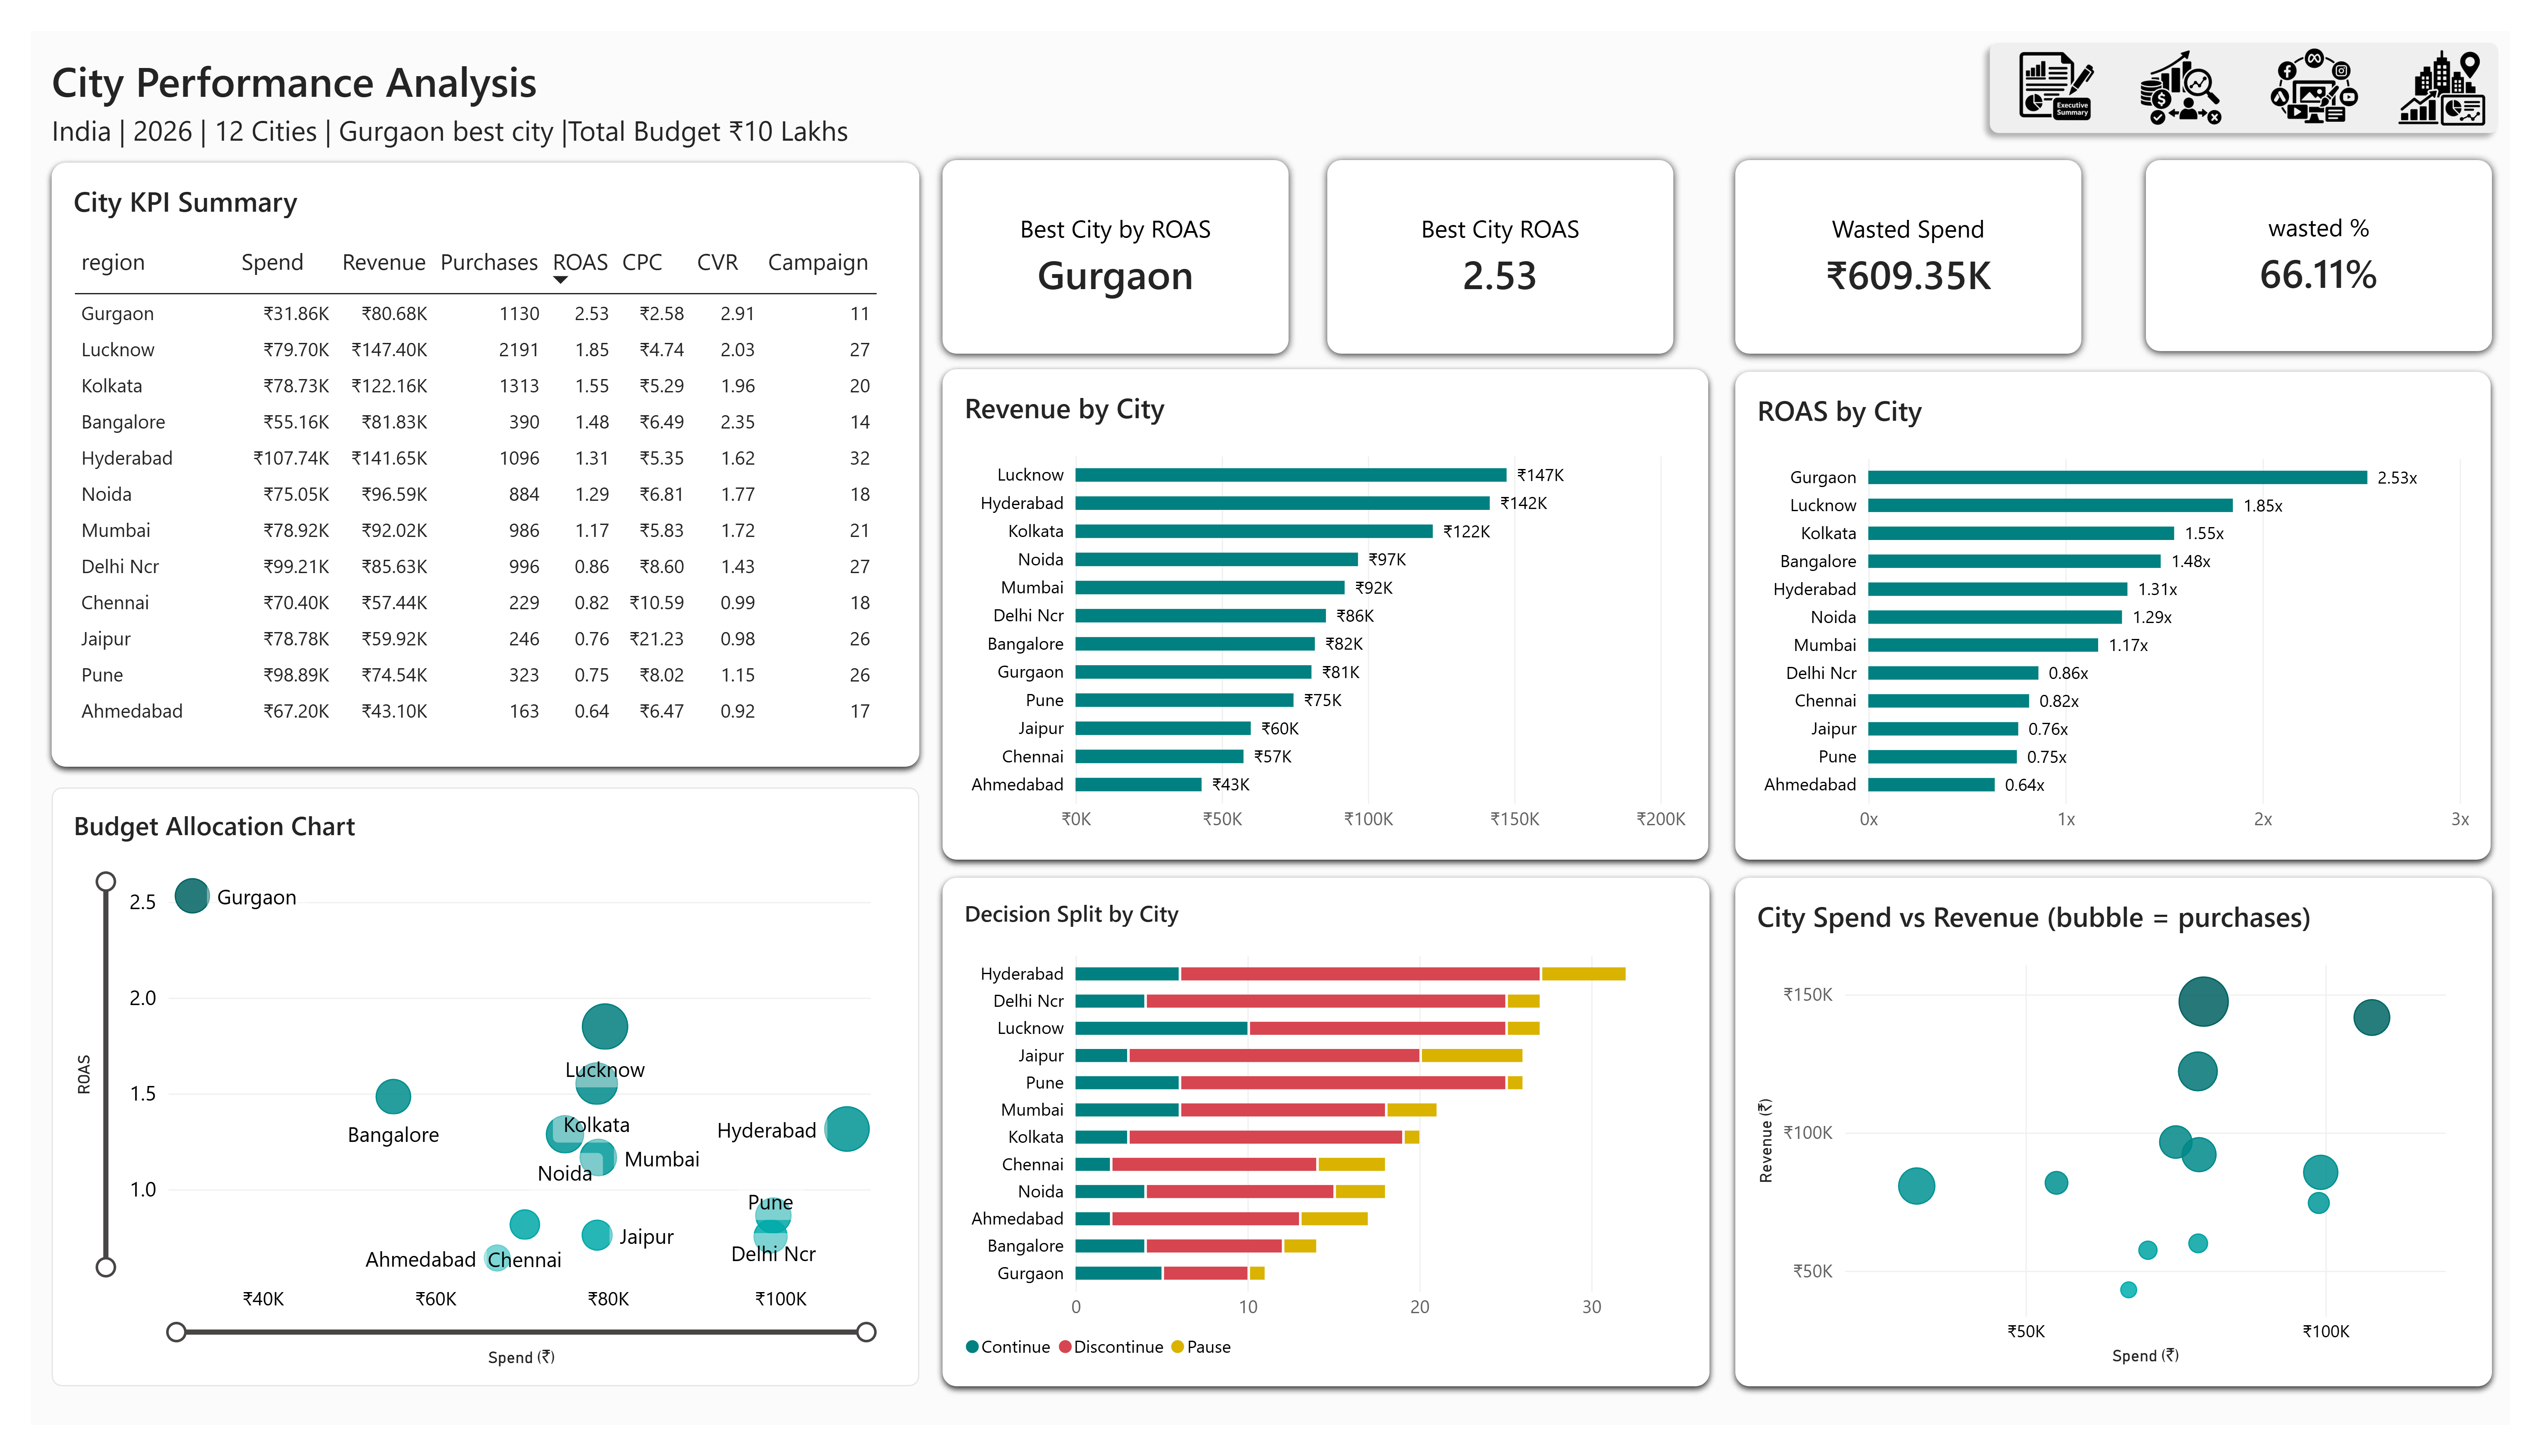

This screenshot's page, from the dashboard's own definition file:
{"tool":"powerbi","page":{"name":"City Performance Analysis","canvas":[1920,1080],"ordinal":3},"visuals":[{"type":"textbox","box":[16,16,1062,45],"z":0},{"type":"clusteredBarChart","title":"Revenue by City","fields":{"Category":["MetaAds.region"],"Y":["MetaAds.Total Revenue"]},"box":[706,262,593,380],"z":1000},{"type":"textbox","box":[16,62,822,40],"z":2000},{"type":"scatterChart","title":"Budget Allocation Chart","fields":{"Category":["MetaAds.region"],"Size":["MetaAds.Total Revenue"],"X":["MetaAds.Total Spend"],"Y":["MetaAds.ROAS by Region"]},"box":[16,586,672,464],"z":3000},{"type":"clusteredBarChart","title":"ROAS by City","fields":{"Category":["MetaAds.region"],"Y":["MetaAds.ROAS by Region"]},"box":[1320,264,585,378],"z":4000},{"type":"tableEx","title":"City KPI Summary","fields":{"Values":["MetaAds.region1","MetaAds.Total Spend1","MetaAds.Total Revenue1","MetaAds.Total Purchases","MetaAds.Overall ROAS","MetaAds.Avg CPC","MetaAds.Avg CVR","MetaAds.Campaign Count"]},"box":[16,102,672,468],"z":5000},{"type":"scatterChart","title":"City Spend vs Revenue (bubble = purchases)","fields":{"Category":["MetaAds.region"],"Size":["MetaAds.Total Purchases"],"X":["MetaAds.Total Spend"],"Y":["MetaAds.Total Revenue"]},"box":[1320,656,586,394],"z":6000},{"type":"barChart","title":"Decision Split by City","fields":{"Category":["MetaAds.region"],"Series":["MetaAds.Decision"],"Y":["MetaAds.Campaign Count"]},"box":[706,656,594,394],"z":7000},{"type":"cardVisual","fields":{"Data":["MetaAds.Wasted Spend"]},"box":[1320,100,268,150],"z":8000},{"type":"cardVisual","fields":{"Data":["MetaAds.wasted %"]},"box":[1638,100,268,148],"z":9000},{"type":"cardVisual","fields":{"Data":["MetaAds.Best City ROAS"]},"box":[1004,100,268,150],"z":10000},{"type":"cardVisual","fields":{"Data":["MetaAds.Best City by ROAS"]},"box":[706,100,268,150],"z":11000},{"type":"shape","box":[1508,0,412,88],"z":12000},{"type":"image","box":[1830,7,75,75],"z":13000},{"type":"image","box":[1731,7,75,75],"z":14000},{"type":"image","box":[1530,7,75,75],"z":15000},{"type":"image","box":[1627,7,75,75],"z":16000}]}

Visuals, with their boxes in screenshot pixels (x1, y1, x2, y2), scaled from the page's 1920x1080 canvas onto the 2541x1456 screenshot:
textbox: <bbox>21, 22, 1427, 82</bbox>
"Revenue by City" clusteredBarChart: <bbox>934, 353, 1719, 866</bbox>
textbox: <bbox>21, 83, 1109, 138</bbox>
"Budget Allocation Chart" scatterChart: <bbox>21, 790, 911, 1416</bbox>
"ROAS by City" clusteredBarChart: <bbox>1747, 356, 2521, 866</bbox>
"City KPI Summary" tableEx: <bbox>21, 138, 911, 768</bbox>
"City Spend vs Revenue (bubble = purchases)" scatterChart: <bbox>1747, 884, 2522, 1416</bbox>
"Decision Split by City" barChart: <bbox>934, 884, 1721, 1416</bbox>
cardVisual - MetaAds.Wasted Spend: <bbox>1747, 135, 2102, 337</bbox>
cardVisual - MetaAds.wasted %: <bbox>2168, 135, 2522, 334</bbox>
cardVisual - MetaAds.Best City ROAS: <bbox>1329, 135, 1683, 337</bbox>
cardVisual - MetaAds.Best City by ROAS: <bbox>934, 135, 1289, 337</bbox>
shape: <bbox>1996, 0, 2541, 119</bbox>
image: <bbox>2422, 9, 2521, 111</bbox>
image: <bbox>2291, 9, 2390, 111</bbox>
image: <bbox>2025, 9, 2124, 111</bbox>
image: <bbox>2153, 9, 2253, 111</bbox>
